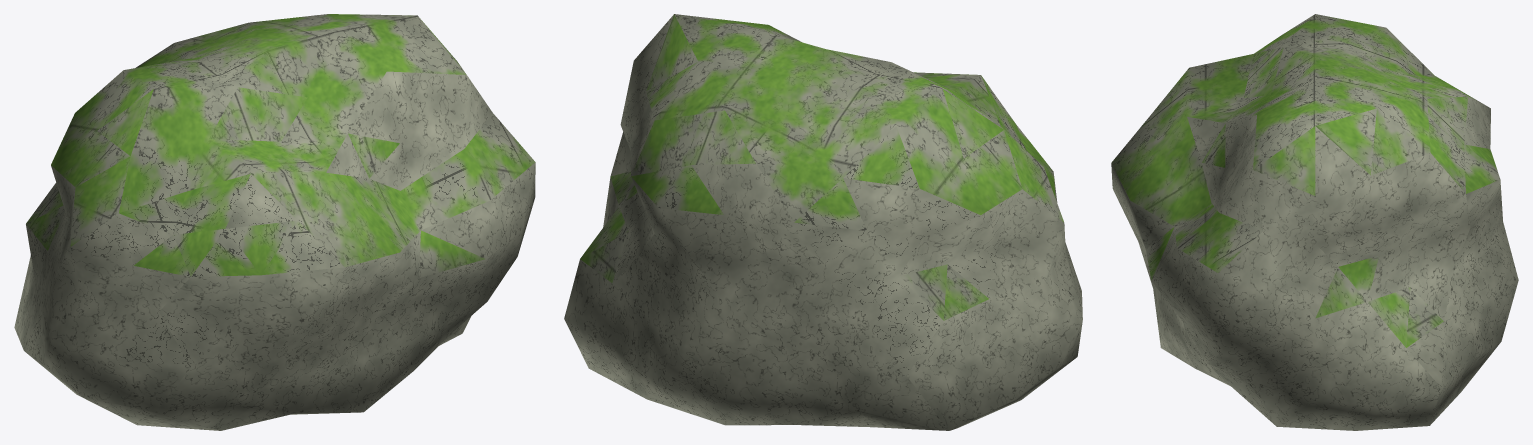
The model's file is Rock_Large.fbx.
3 renders of one model, left to right at view 1: azimuth 30°, elevation 25°; view 2: azimuth 150°, elevation 25°; view 3: azimuth 270°, elevation 25°, orthographic. The views are drawn at different scales.
Visible parts, largest first — view 1: Rock_Large.001; view 2: Rock_Large.001; view 3: Rock_Large.001.
Part boxes in pixels (x1=…): Rock_Large.001: x1=14, y1=14, x2=535, y2=430; Rock_Large.001: x1=564, y1=14, x2=1082, y2=430; Rock_Large.001: x1=1111, y1=14, x2=1518, y2=430.
Size of the model in its own units: 2.77 by 1.79 by 2.25.
